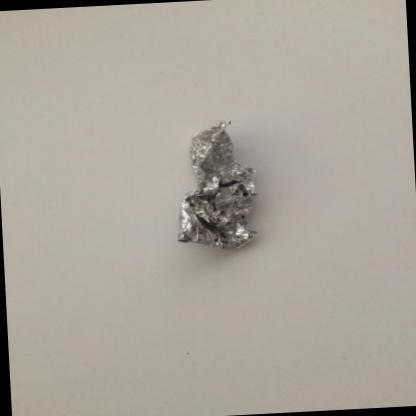Metal: (178, 122, 256, 248)
